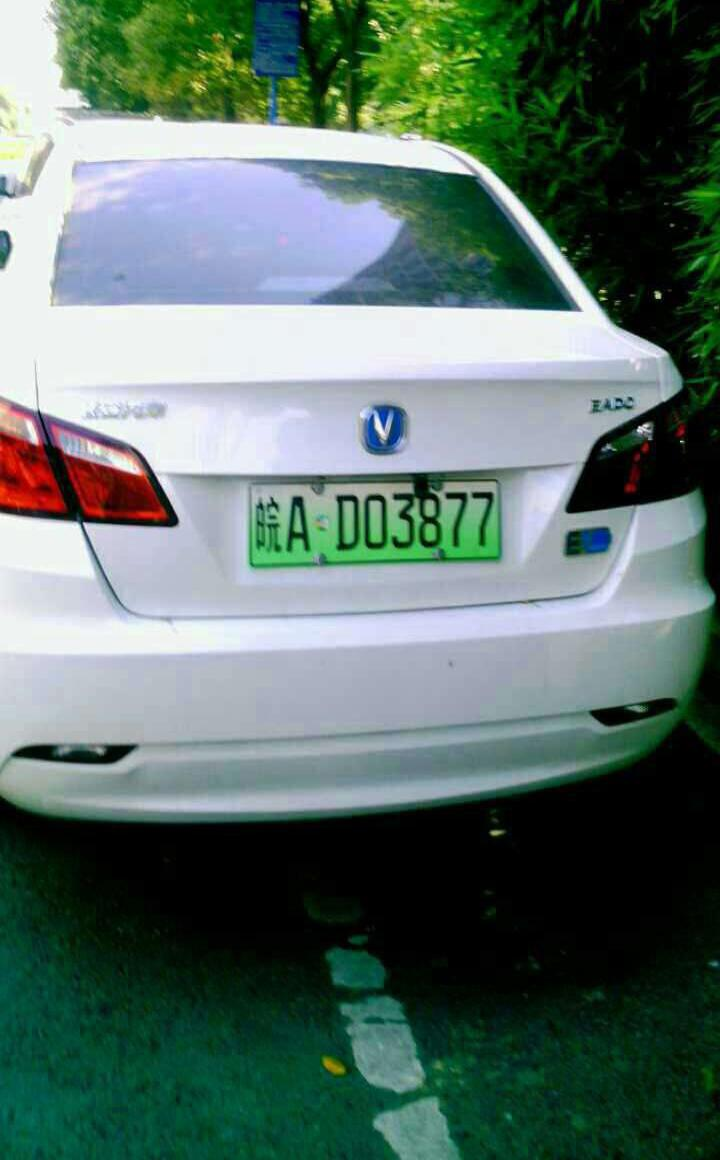car_id: (248, 483, 498, 564)
